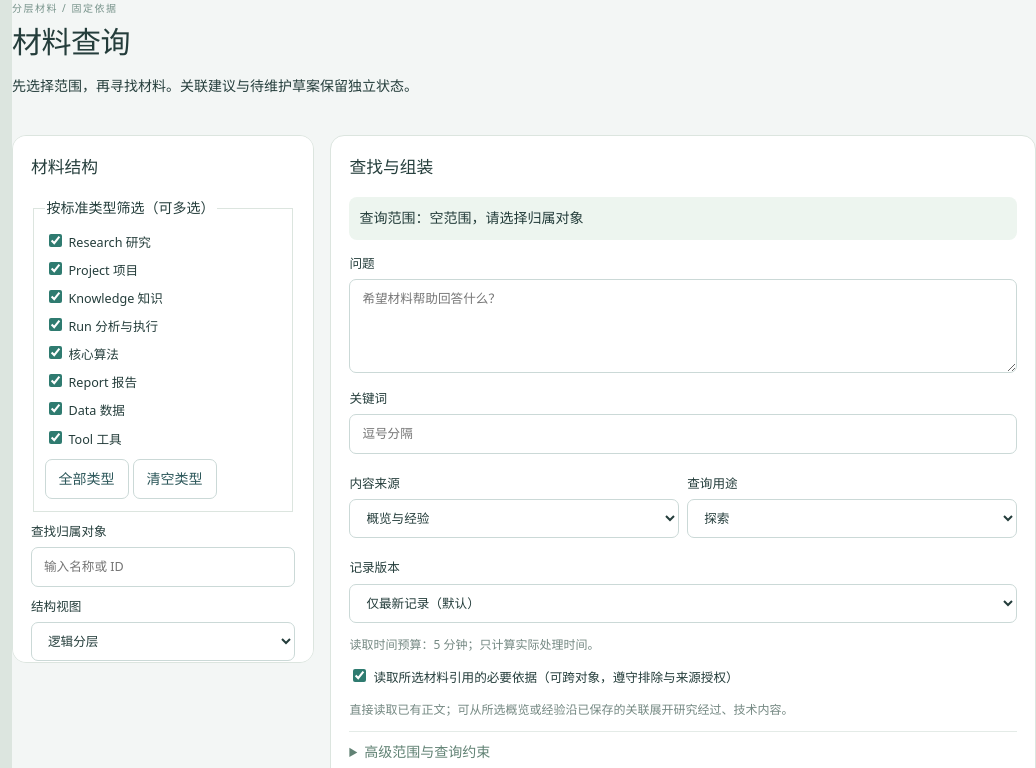
Test: 材料查询固定范围与回执 › 标准类型可单选多选，所有来源与旧版显式选择，默认预算五分钟
expect the dropdown labelled "记录版本" shows "仅最新记录（默认）": met, box [349,584,1017,622]
expect the text "读取时间预算：5 分钟；只计算实际处理时间。" is shown: met, box [349,636,599,652]
Click the button "清空类型": (174, 479) [132,459,216,499]
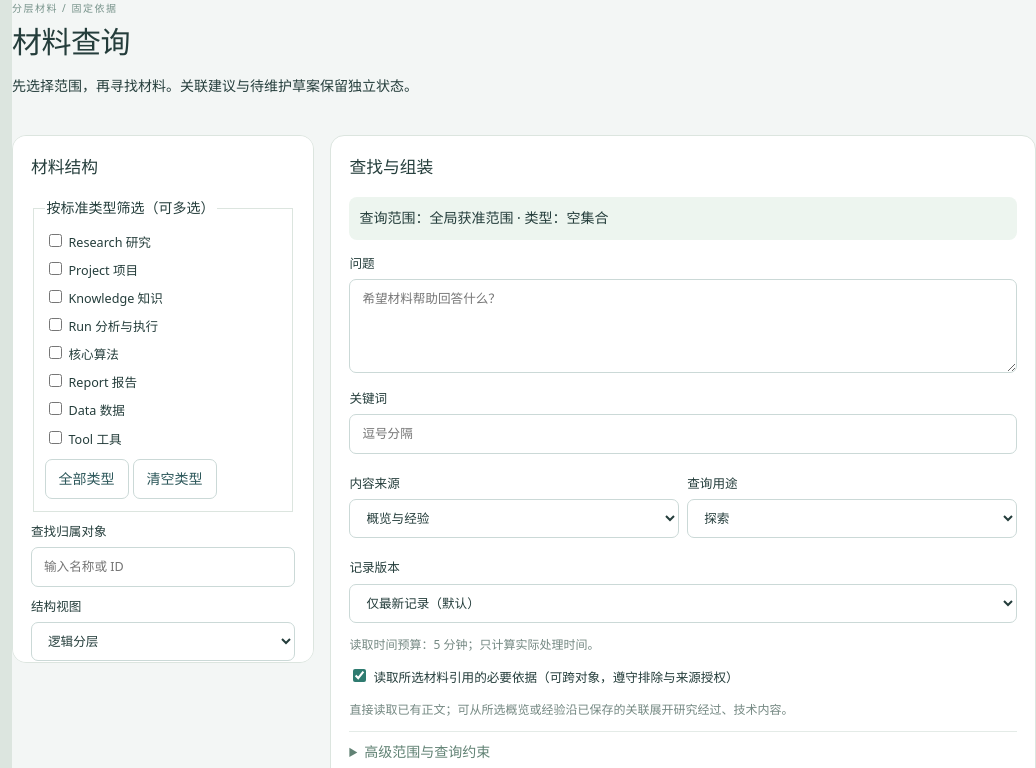
Click the checkbox named "类型：Research 研究": (55, 240) [48,234,62,246]
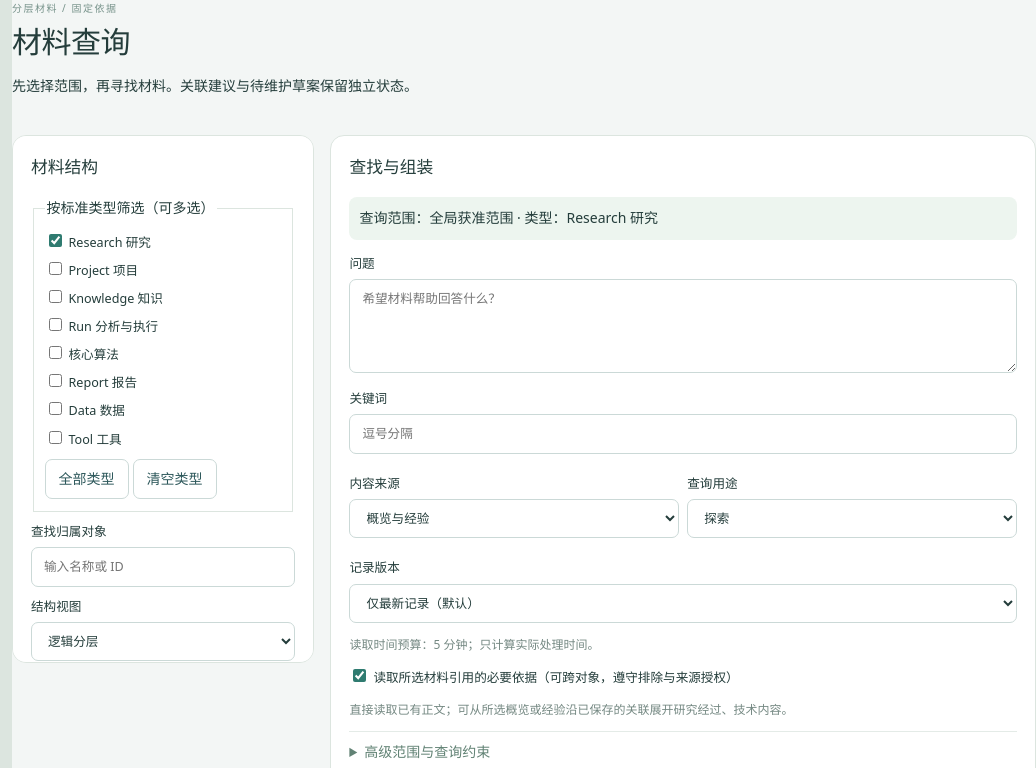
Click the checkbox named "类型：Project 项目": (55, 268) [48,262,62,275]
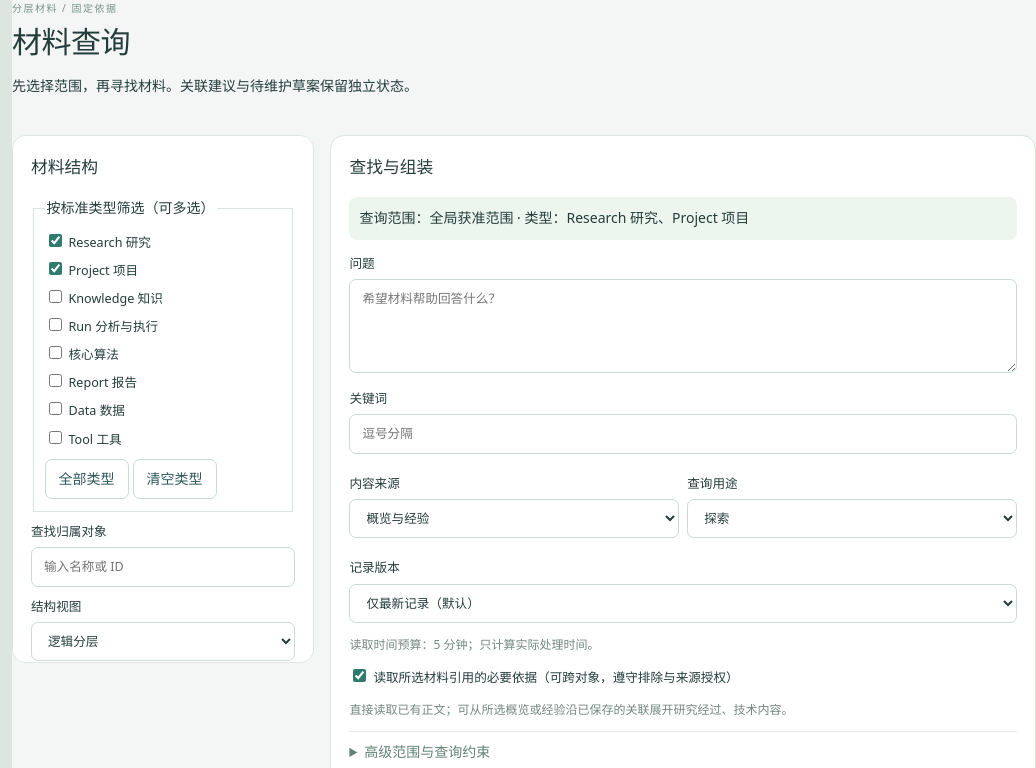
Select "所有来源" in the dropdown labelled "内容来源": (514, 519) [349,499,679,538]
Select "包含历史记录" in the dropdown labelled "记录版本": (683, 603) [349,584,1017,622]
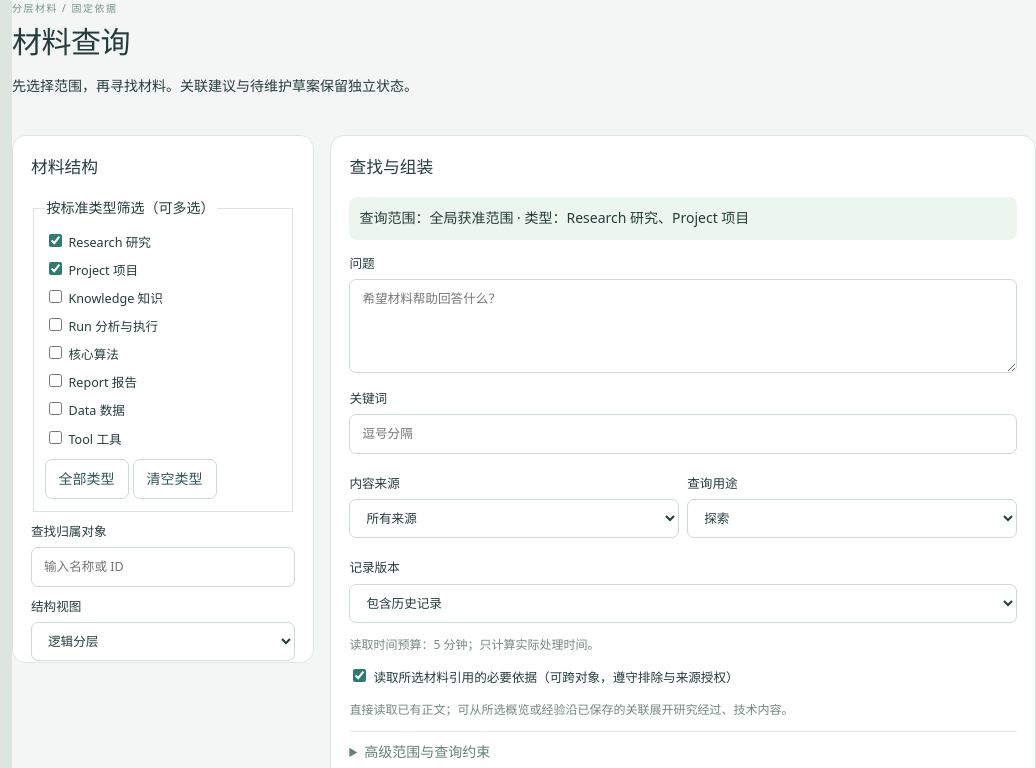
In the text box labelled "问题": (683, 326) [349,279,1017,373], type "压力"
(page scrolled)
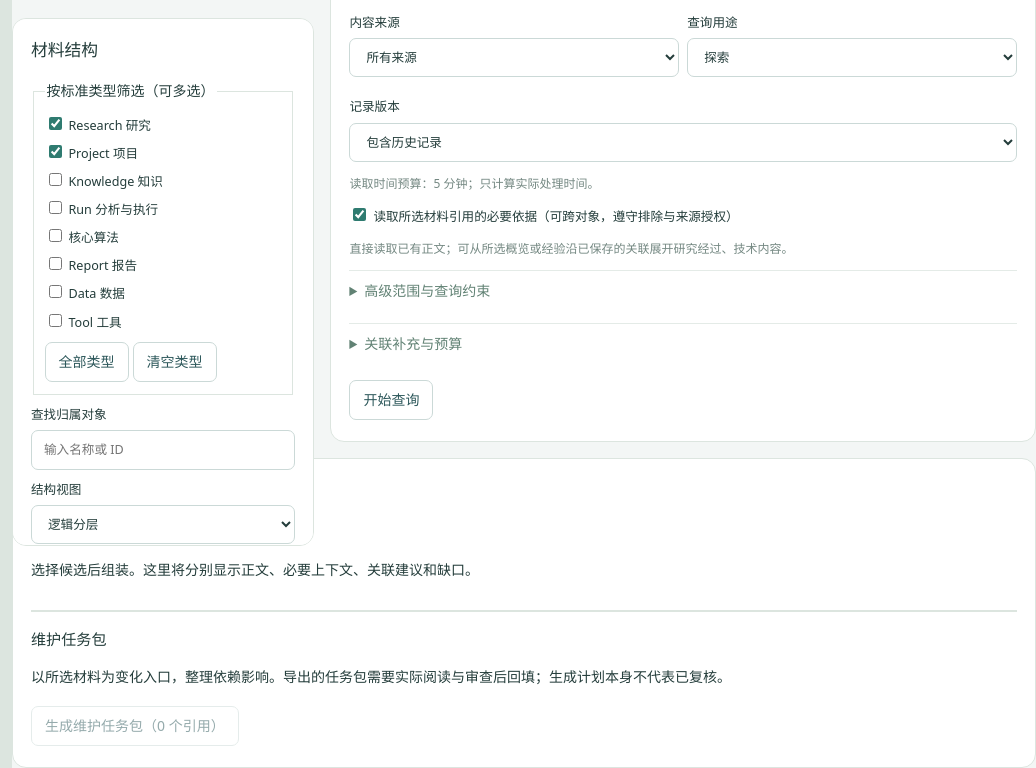
Click the button "开始查询": (391, 400) [349,380,433,420]
(page scrolled)
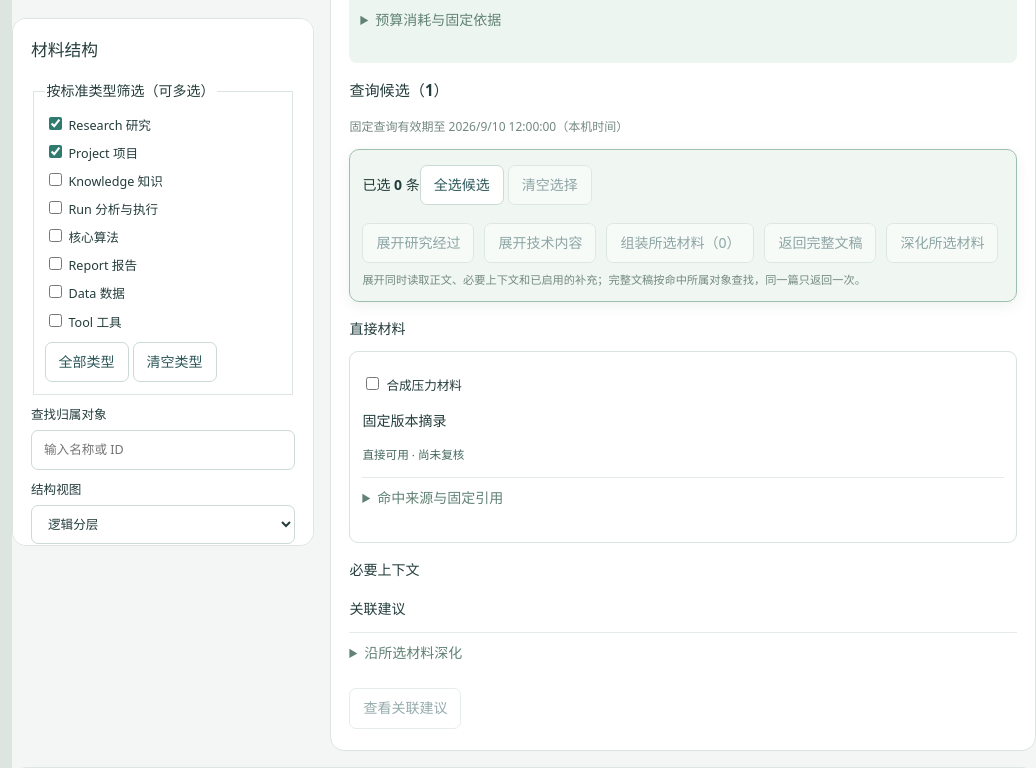
expect the text "合成压力材料" is shown: met, box [366,377,462,394]
